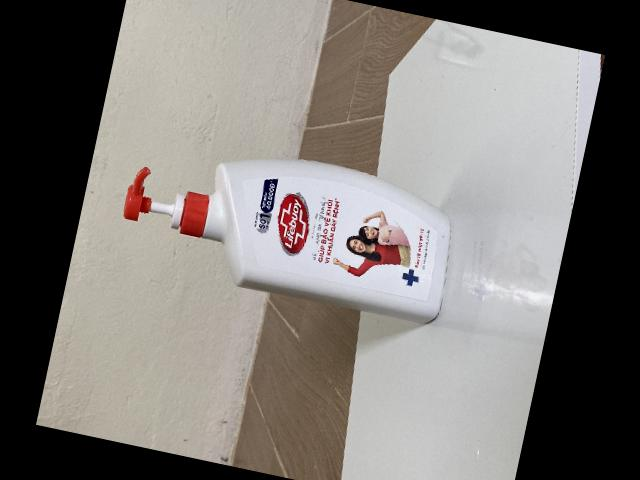life-buoy: (123, 157, 453, 324)
